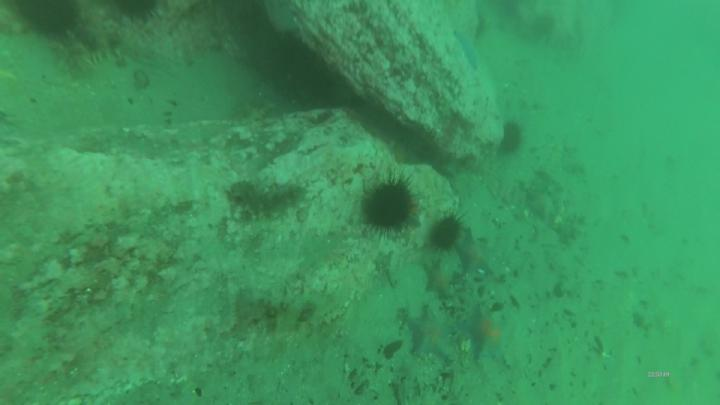echinus: (358, 169, 423, 243), (21, 1, 87, 41), (428, 212, 471, 254), (108, 1, 163, 29), (497, 119, 529, 157)
holothurian: (226, 176, 311, 225), (266, 283, 350, 332), (51, 22, 133, 71), (237, 95, 279, 123)
starfish: (405, 303, 462, 367), (462, 301, 514, 366), (456, 227, 497, 281), (422, 258, 458, 303), (453, 28, 487, 75), (260, 1, 300, 36)
